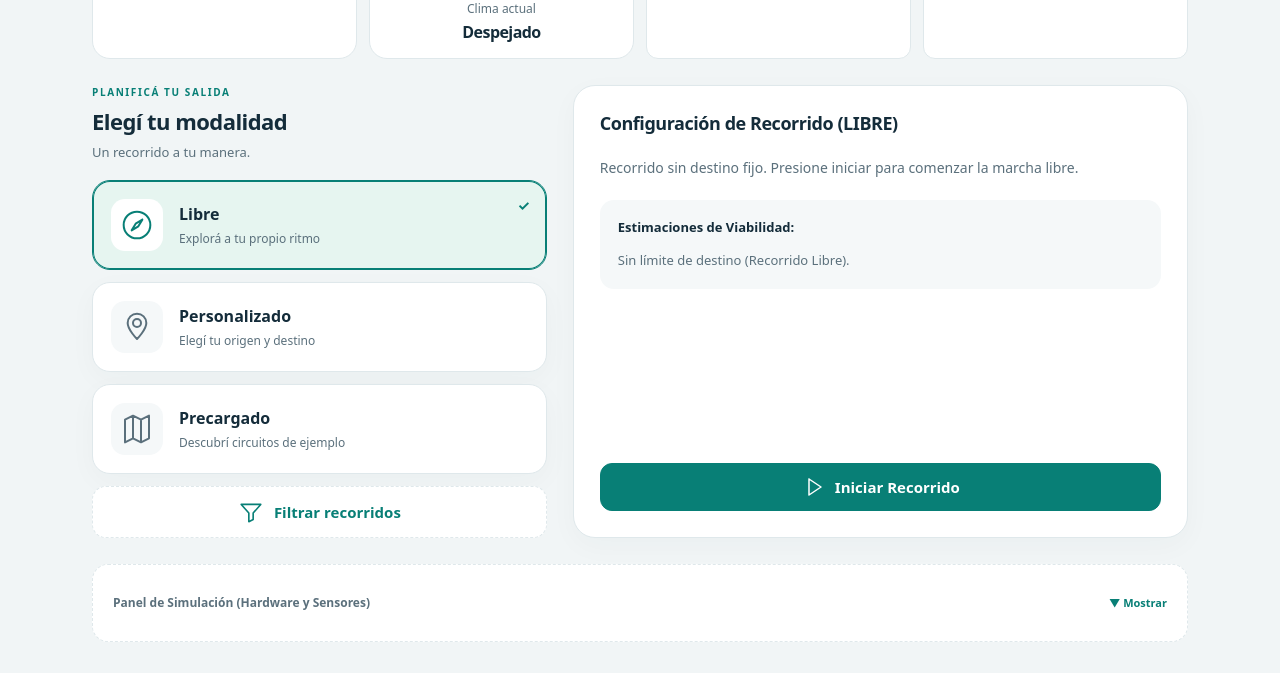
CU-02 Filtrar recorridos (UI) › TC-34/CA2-04/05: combina criterios con AND y filtra recién al presionar Buscar
This screenshot has width=1280, height=673.
(page scrolled)
Click the button "Filtrar recorridos": (319, 512) [92,486,547,538]
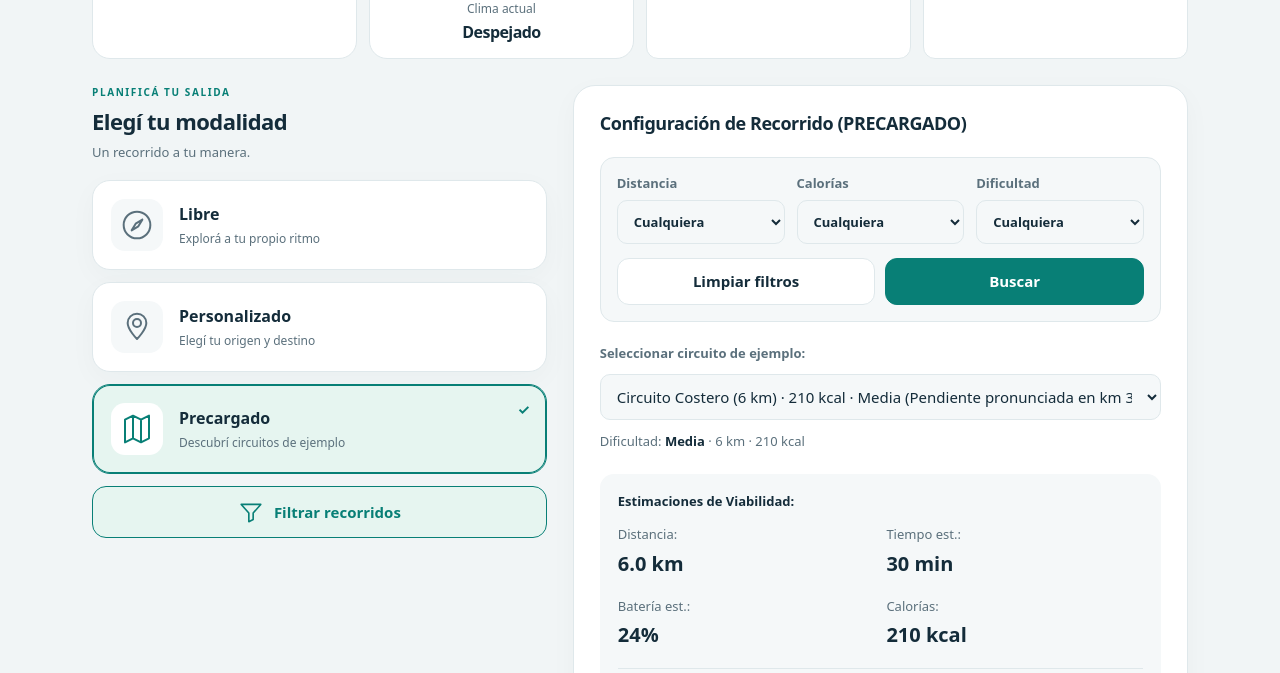
Select "Hasta 10 km" in the dropdown labelled "Distancia": (701, 222) [617,200,785,244]
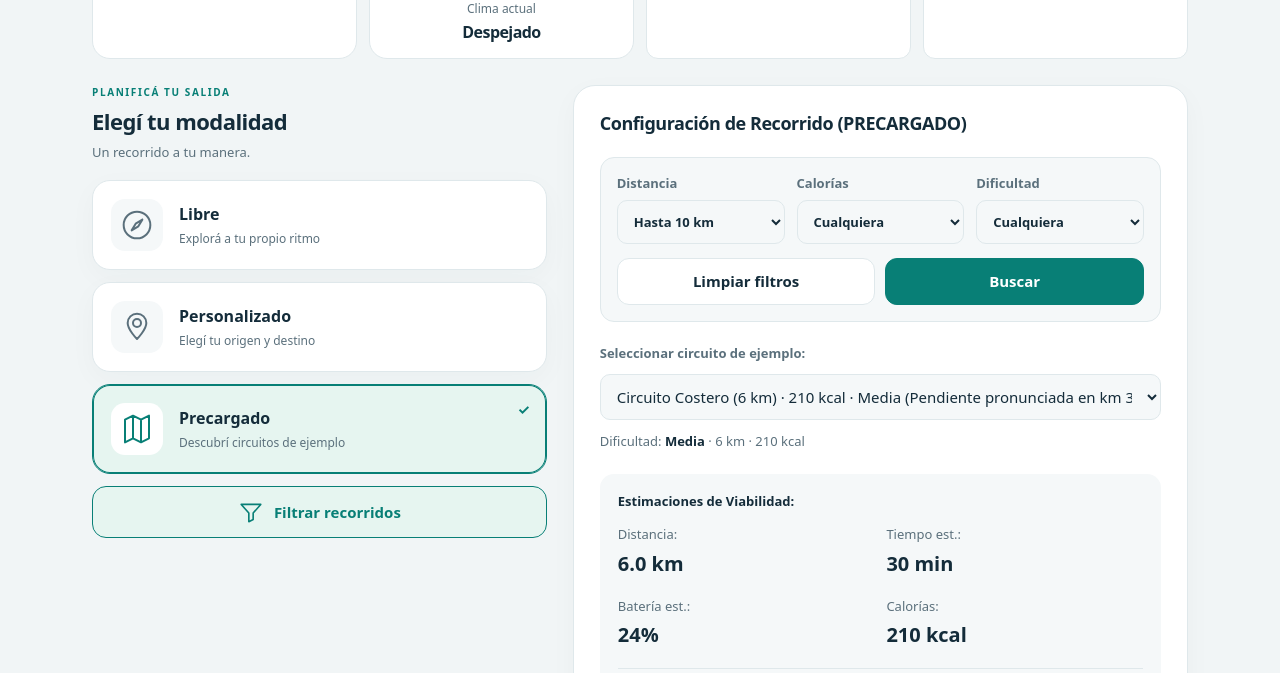
Select "Media" in the dropdown named "Filtro de dificultad": (1060, 222) [976,200,1144,244]
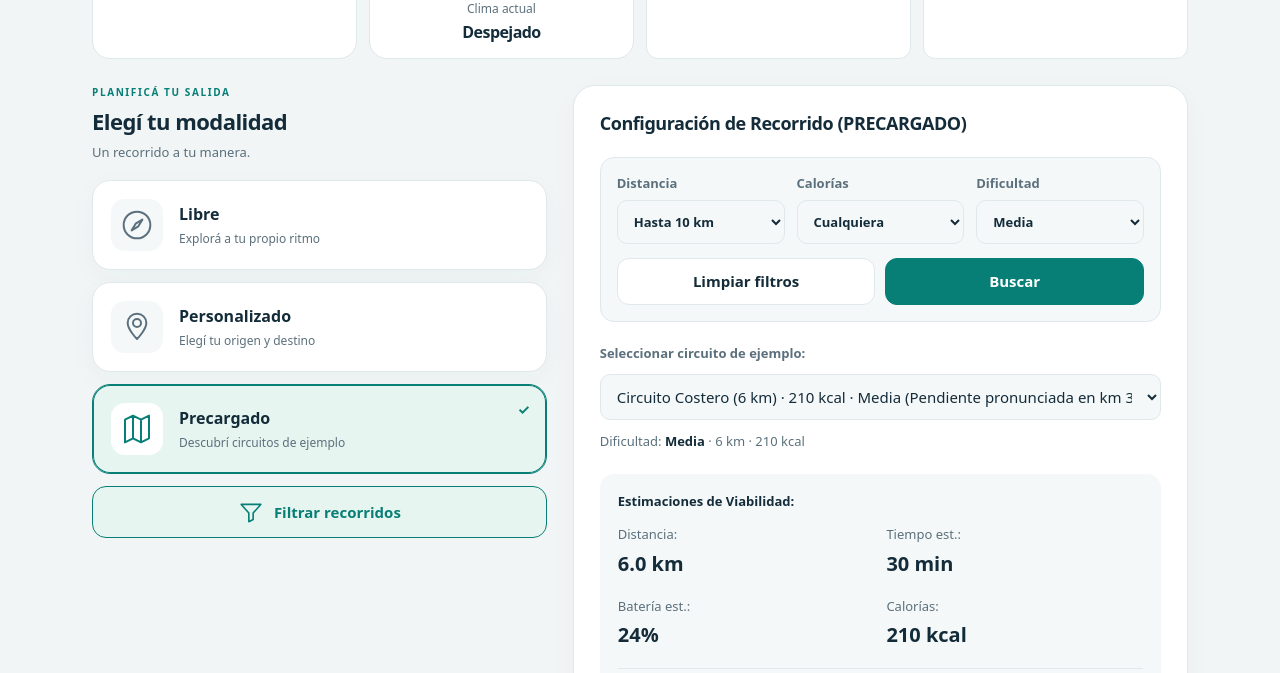
Click the button "Buscar": (1015, 281) [885,258,1144,305]
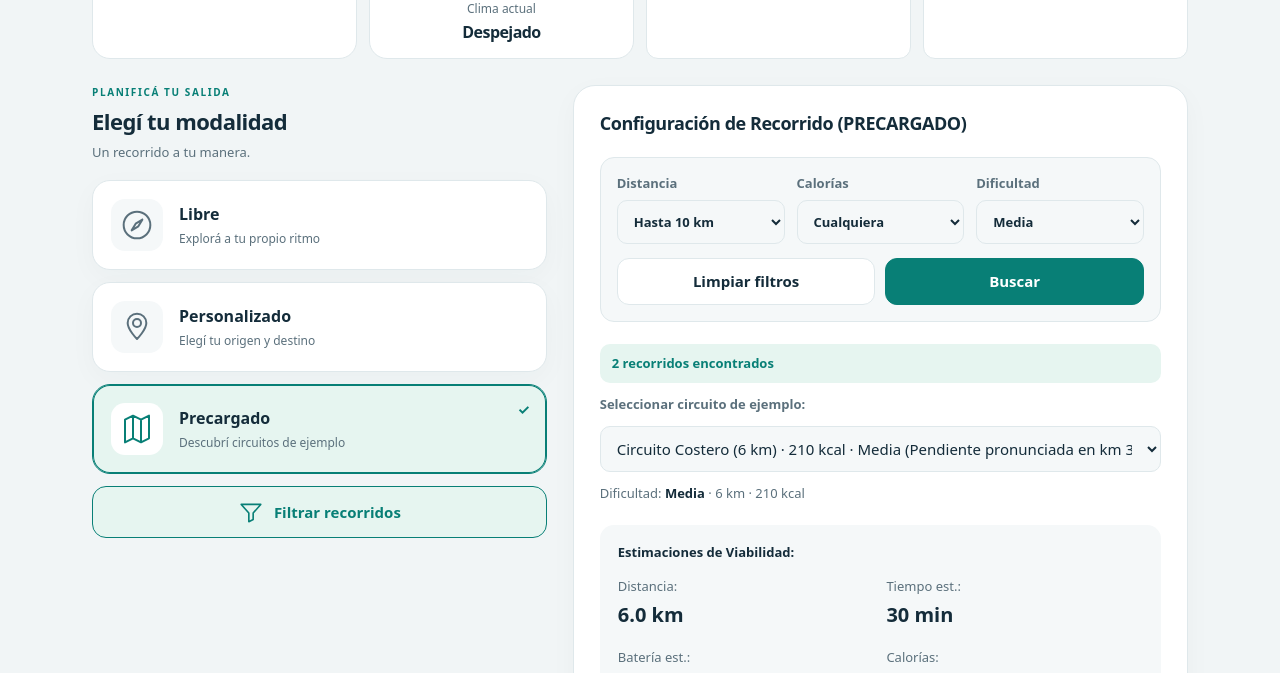
Now the text "2 recorridos encontrados" is shown, box [600,344,1161,383]
